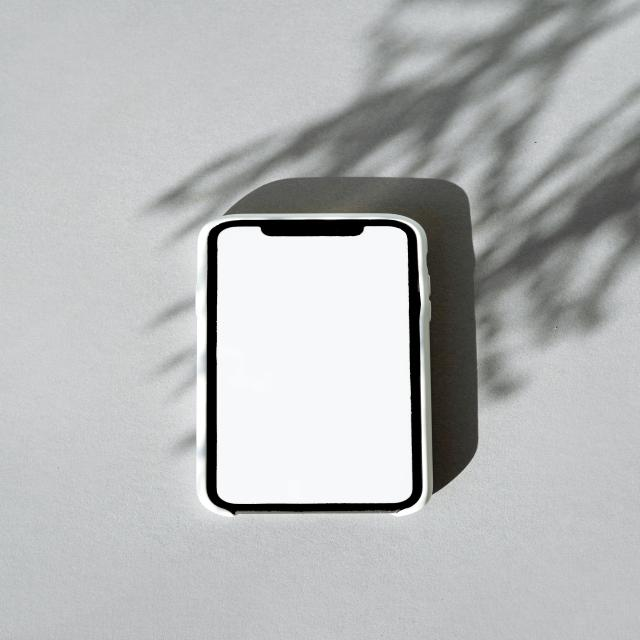Mobile: (180, 208, 444, 534)
